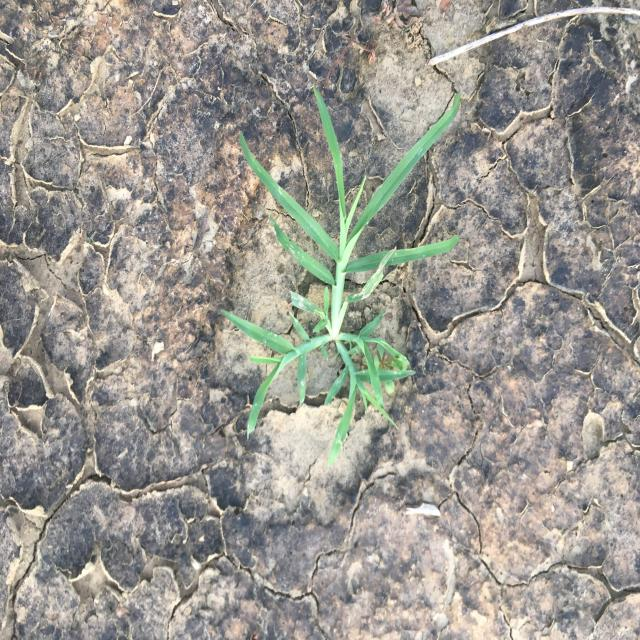Goosegrass: (218, 83, 464, 470)
